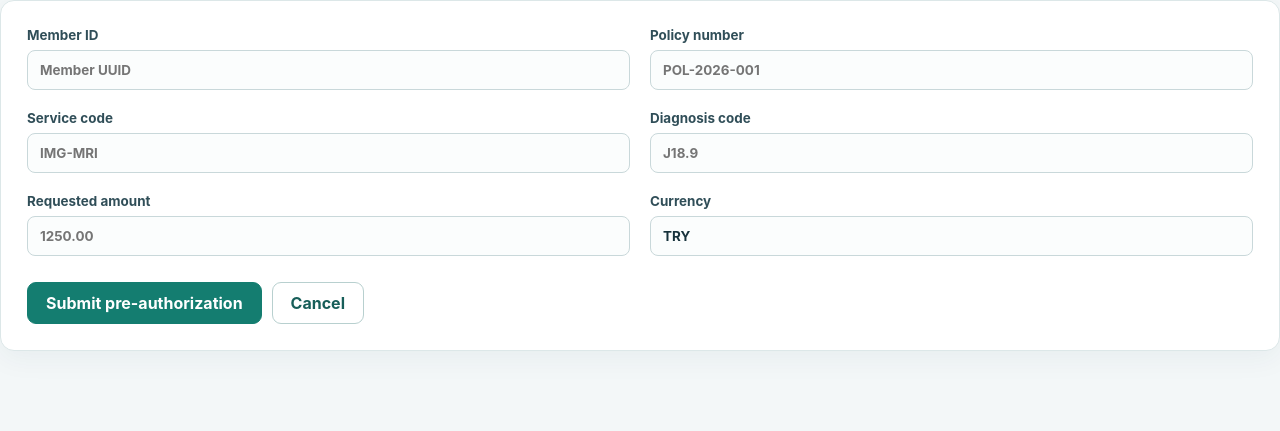
it: SubmitPreAuthorizationForm › shows validation errors before sending an incomplete request
Click the button "Submit pre-authorization" at (144, 303), box [27,282,262,324]
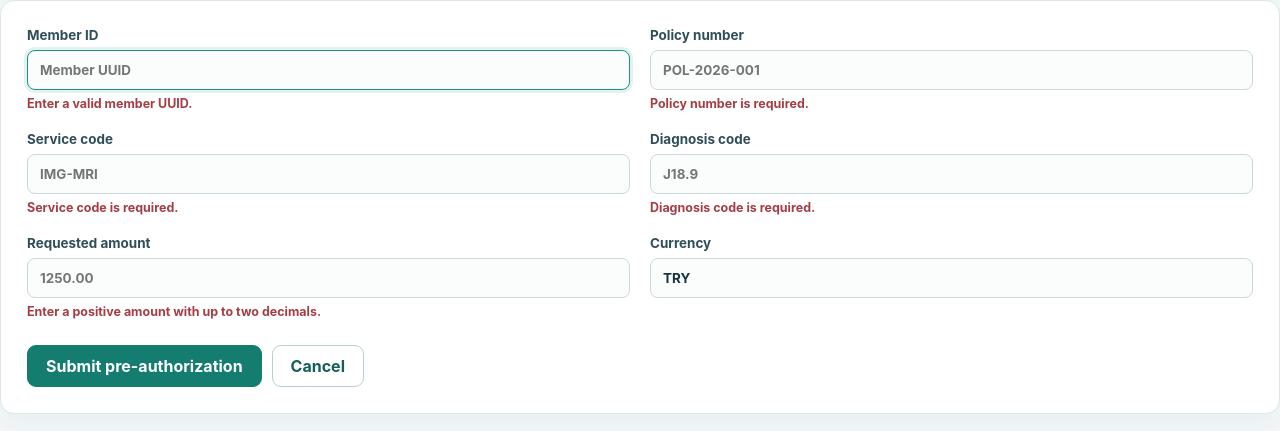
Expected: the text "Enter a valid member UUID." is shown, [27,96,192,111]
Expected: the text "Policy number is required." is shown, [650,96,809,111]
Expected: the text "Service code is required." is shown, [27,200,178,215]
